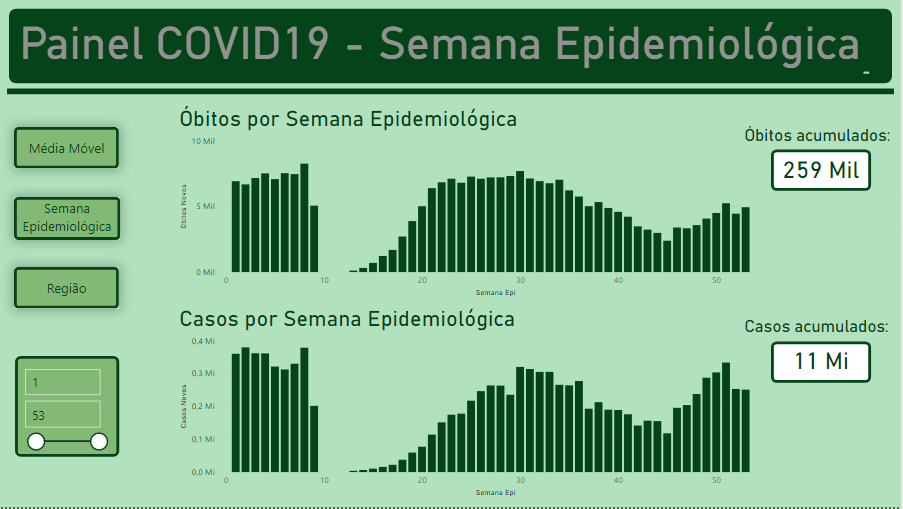

The page's visual inventory and layout, read from the dashboard file:
{"tool":"powerbi","page":{"name":"Casos_e_Obitos_por_SemanaEpidemiológica","canvas":[1280,720],"ordinal":1},"visuals":[{"type":"clusteredColumnChart","title":"Óbitos por Semana Epidemiológica","fields":{"Category":["COVIDBR.Semana Epi"],"Y":["Sum(COVIDBR.Obitos Novos)"]},"box":[250,150.2,850,274.9],"z":0},{"type":"clusteredColumnChart","title":"Casos por Semana Epidemiológica","fields":{"Category":["COVIDBR.Semana Epi"],"Y":["Sum(COVIDBR.Casos Novos)"]},"box":[249.8,435,850,274.9],"z":1000},{"type":"actionButton","box":[20,280,150.8,60.6],"z":2000},{"type":"actionButton","box":[20,380,149.3,59.1],"z":3000},{"type":"actionButton","box":[20,180,149.3,59.1],"z":4000},{"type":"basicShape","box":[0,11.8,1280,107.9],"z":5000},{"type":"basicShape","box":[0,121.2,1280,17.7],"z":6000},{"type":"textbox","title":"Painel COVID19 - Semana Epidemiológica","box":[22.8,22.8,1217.4,86.9],"z":7000},{"type":"basicShape","box":[1094.4,212.1,145.2,59.8],"z":7500},{"type":"card","title":"Óbitos acumulados:","fields":{"Values":["Sum(COVIDBR.Obitos Novos)"]},"box":[1053.1,179,226.9,91.1],"z":8000},{"type":"basicShape","box":[20,504,150.8,146.3],"z":9000},{"type":"slicer","fields":{"Values":["COVIDBR.Semana Epi"]},"box":[22.2,514.4,138.9,134.5],"z":10000},{"type":"basicShape","box":[1094.4,484.1,145.2,59.8],"z":11000},{"type":"card","title":"Casos acumulados:","fields":{"Values":["Sum(COVIDBR.Casos Novos)"]},"box":[1053.1,450.6,226.9,91.1],"z":12000}]}

Visuals, with their boxes in screenshot pixels (x1, y1, x2, y2), scaled from the page's 1280x720 canvas onto the 903x509 screenshot:
"Óbitos por Semana Epidemiológica" clusteredColumnChart: {"left": 176, "top": 106, "right": 776, "bottom": 301}
"Casos por Semana Epidemiológica" clusteredColumnChart: {"left": 176, "top": 308, "right": 776, "bottom": 502}
actionButton: {"left": 14, "top": 198, "right": 120, "bottom": 241}
actionButton: {"left": 14, "top": 269, "right": 119, "bottom": 310}
actionButton: {"left": 14, "top": 127, "right": 119, "bottom": 169}
basicShape: {"left": 0, "top": 8, "right": 902, "bottom": 85}
basicShape: {"left": 0, "top": 86, "right": 902, "bottom": 98}
"Painel COVID19 - Semana Epidemiológica" textbox: {"left": 16, "top": 16, "right": 875, "bottom": 78}
basicShape: {"left": 772, "top": 150, "right": 874, "bottom": 192}
"Óbitos acumulados:" card: {"left": 743, "top": 127, "right": 902, "bottom": 191}
basicShape: {"left": 14, "top": 356, "right": 120, "bottom": 460}
slicer - COVIDBR.Semana Epi: {"left": 16, "top": 364, "right": 114, "bottom": 459}
basicShape: {"left": 772, "top": 342, "right": 874, "bottom": 385}
"Casos acumulados:" card: {"left": 743, "top": 319, "right": 902, "bottom": 383}
